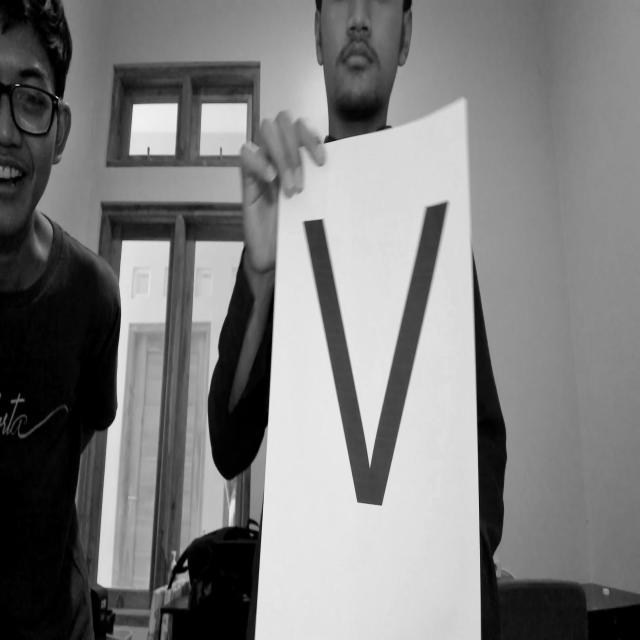v: (296, 192, 458, 524)
